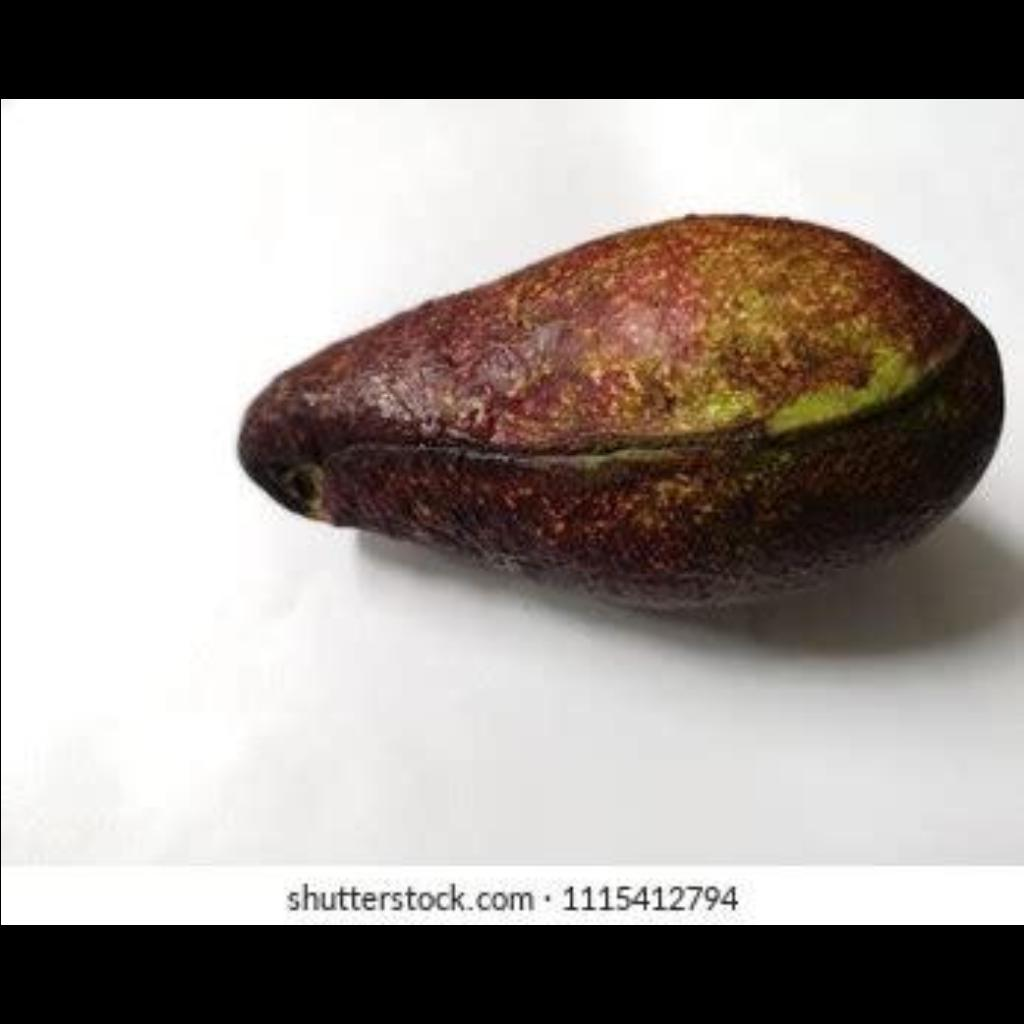antracnosis_fruto: (214, 244, 1005, 598)
